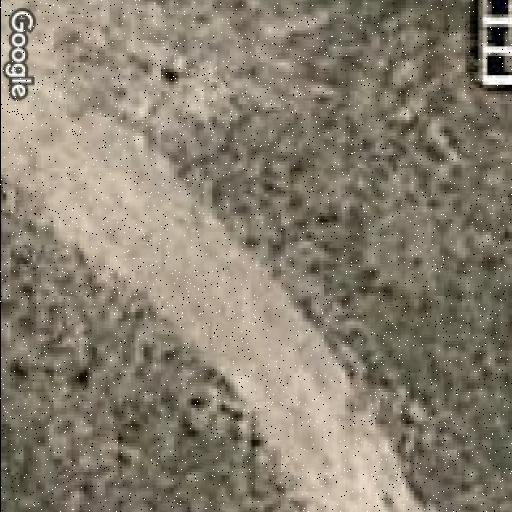solar-panel: (477, 0, 512, 85)
